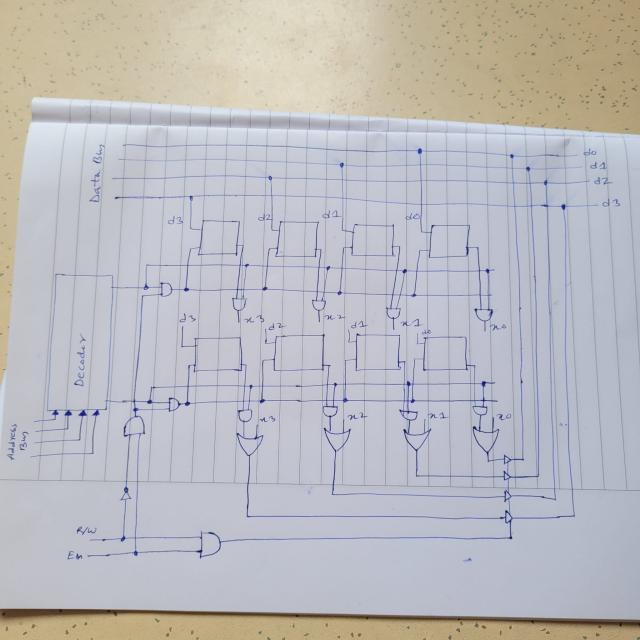crossover: (418, 200, 424, 207), (510, 179, 516, 185), (526, 179, 532, 185), (414, 268, 420, 274), (508, 165, 514, 170), (544, 202, 549, 208), (476, 292, 482, 297), (132, 398, 137, 403), (419, 178, 423, 184), (476, 268, 482, 272), (389, 292, 395, 296), (529, 203, 533, 208), (512, 203, 516, 208), (418, 162, 423, 166), (394, 268, 398, 273), (340, 265, 344, 270), (316, 265, 321, 269), (314, 289, 319, 293), (260, 383, 264, 388), (242, 383, 246, 388), (241, 398, 245, 403), (342, 382, 347, 386), (481, 398, 486, 402), (398, 292, 402, 296), (265, 264, 269, 268), (242, 288, 246, 292), (186, 383, 190, 387), (247, 398, 251, 402), (325, 382, 329, 386), (402, 382, 406, 386), (472, 381, 476, 385), (472, 398, 476, 402), (322, 290, 326, 293), (238, 263, 241, 267), (236, 288, 239, 292), (186, 263, 190, 266), (324, 398, 328, 401), (332, 398, 335, 402), (402, 398, 405, 402), (406, 399, 409, 403), (411, 382, 414, 385)
junction: (131, 548, 140, 557), (415, 146, 424, 155), (479, 379, 488, 388), (243, 511, 252, 520), (541, 177, 549, 186), (266, 173, 274, 182), (341, 395, 349, 404), (558, 202, 566, 211), (118, 534, 126, 542), (328, 490, 336, 498), (258, 396, 266, 404), (182, 285, 190, 293), (187, 193, 194, 201), (261, 284, 268, 292), (142, 283, 149, 291), (183, 399, 190, 407), (324, 264, 332, 271), (145, 398, 153, 405), (336, 289, 343, 296), (338, 161, 345, 168), (524, 165, 531, 172), (508, 152, 514, 160), (508, 534, 514, 541), (534, 472, 540, 479), (90, 449, 96, 456), (484, 267, 490, 273), (148, 384, 154, 390), (187, 247, 193, 253), (243, 262, 249, 268), (140, 292, 146, 298), (121, 142, 127, 148), (248, 383, 254, 389), (474, 244, 480, 250), (418, 228, 424, 234), (401, 268, 407, 274), (269, 226, 275, 232), (188, 225, 194, 231), (332, 381, 338, 387), (132, 406, 138, 412), (64, 426, 70, 432), (571, 512, 576, 518), (411, 292, 416, 298), (144, 262, 149, 268), (179, 343, 184, 349), (76, 437, 82, 442), (520, 456, 525, 462), (418, 248, 423, 254), (326, 363, 331, 369), (343, 358, 348, 364), (346, 338, 351, 344), (405, 380, 410, 386), (52, 416, 57, 422), (340, 227, 345, 232), (267, 246, 272, 251), (240, 243, 245, 248), (402, 359, 407, 364), (411, 357, 416, 362), (472, 364, 477, 369), (552, 496, 557, 501), (414, 472, 418, 478), (397, 243, 401, 249), (318, 246, 322, 252), (262, 342, 268, 346), (261, 358, 267, 362), (342, 244, 346, 249), (410, 398, 414, 403), (486, 458, 490, 463), (187, 363, 191, 367), (244, 363, 248, 367), (415, 342, 419, 346)
terminal: (85, 536, 94, 542), (112, 194, 119, 201), (572, 152, 580, 158), (315, 317, 322, 323), (584, 178, 590, 184), (592, 202, 598, 208), (31, 419, 37, 425), (29, 454, 35, 460), (391, 325, 397, 331), (578, 164, 584, 169), (494, 399, 499, 405), (32, 440, 38, 445), (86, 553, 91, 559), (179, 324, 184, 330), (263, 328, 269, 333), (414, 331, 420, 336), (482, 327, 487, 333), (491, 380, 496, 385), (34, 429, 39, 434), (254, 422, 259, 427), (116, 156, 121, 161), (492, 267, 497, 272), (236, 318, 240, 324), (490, 415, 496, 419), (346, 327, 350, 332), (423, 418, 428, 422), (341, 418, 346, 422), (112, 176, 116, 181), (490, 292, 493, 296)
text: (88, 143, 106, 205), (71, 332, 88, 390), (6, 422, 17, 461), (75, 524, 98, 536), (592, 174, 610, 188), (19, 428, 29, 452), (601, 196, 621, 208), (346, 411, 367, 422), (166, 214, 184, 226), (427, 411, 448, 421), (487, 322, 508, 332), (401, 318, 421, 328), (324, 312, 344, 322), (244, 314, 264, 324), (582, 146, 598, 158), (589, 160, 608, 170), (180, 312, 197, 323), (66, 550, 84, 560), (258, 414, 276, 424), (322, 209, 339, 219), (266, 322, 284, 331), (405, 210, 420, 220), (496, 412, 512, 421), (349, 320, 365, 329), (258, 212, 271, 223), (420, 328, 431, 338)
